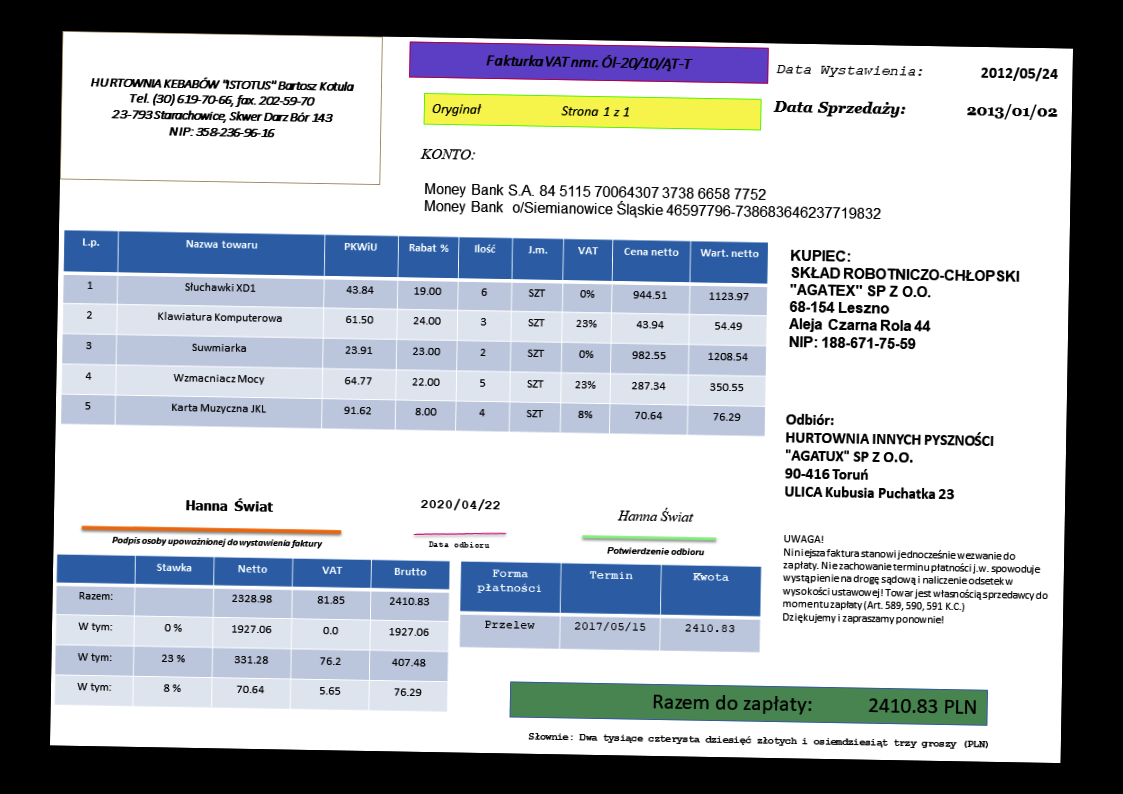Table: (59, 228, 771, 438), (52, 551, 453, 714), (458, 559, 762, 654)
TextBox: (779, 530, 1052, 630), (785, 244, 1022, 355), (421, 176, 884, 223), (782, 409, 996, 504), (87, 74, 357, 143), (526, 728, 991, 754), (649, 687, 980, 719), (428, 99, 633, 123), (481, 51, 697, 73), (109, 532, 327, 550), (772, 96, 908, 122), (773, 61, 925, 81), (966, 101, 1063, 123), (417, 493, 504, 516), (181, 495, 277, 515), (977, 63, 1062, 84), (616, 505, 697, 525), (602, 544, 707, 559), (418, 142, 478, 163), (426, 537, 492, 551)
